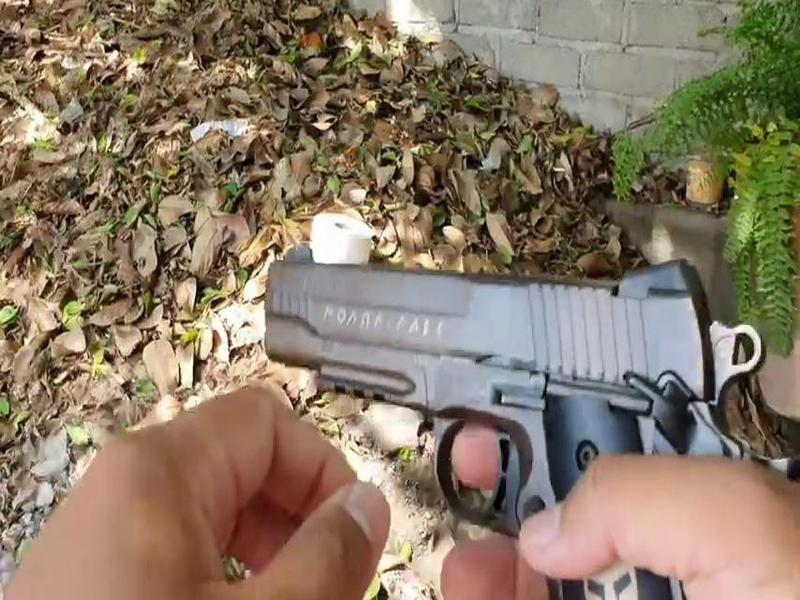Pistola: (219, 191, 745, 584)
